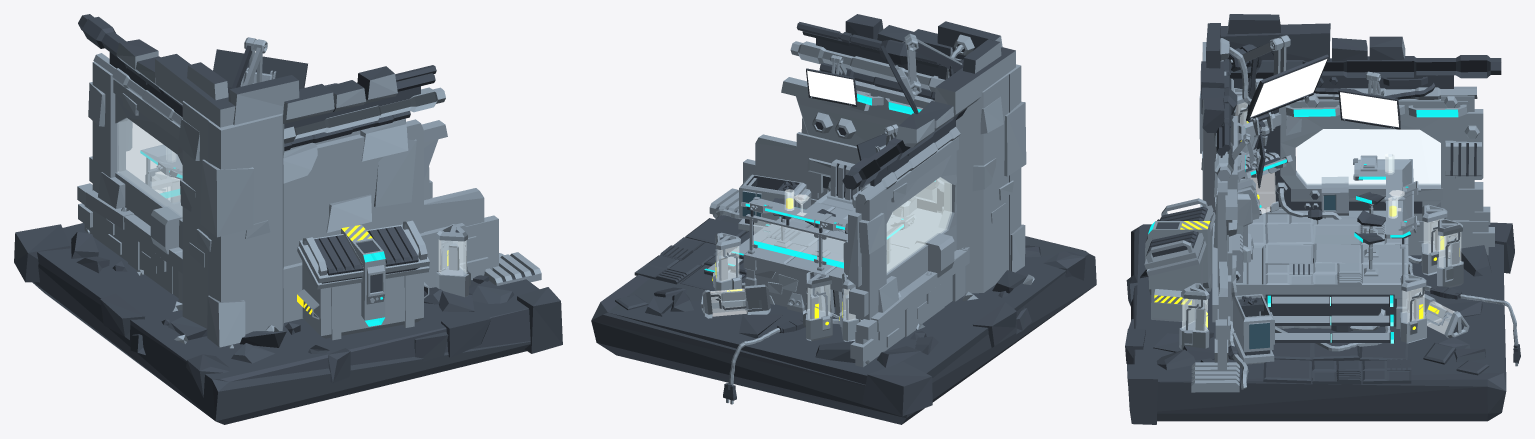
The model's file is cyberpunk_bar.glb.
3 renders of one model, left to right at view 1: azimuth 30°, elevation 25°; view 2: azimuth 150°, elevation 25°; view 3: azimuth 270°, elevation 25°, orthographic. The views are drawn at different scales.
Visible parts, largest first — view 1: Object_5, Object_10, Object_8, Object_6, Object_12; view 2: Object_10, Object_5, Object_8, Object_6, Object_12, Object_14, Object_11, Object_7, Object_9; view 3: Object_10, Object_5, Object_8, Object_6, Object_12, Object_11, Object_7, Object_9, Object_14, Object_4, Object_3.
Part boxes in pixels (x1,y1,x2,y2): Object_5: [77, 43, 498, 348]; Object_10: [14, 14, 562, 424]; Object_8: [115, 37, 470, 297]; Object_6: [93, 53, 541, 285]; Object_12: [117, 118, 466, 275]; Object_10: [591, 14, 1096, 424]; Object_5: [708, 36, 1034, 404]; Object_8: [700, 33, 956, 318]; Object_6: [709, 34, 974, 312]; Object_12: [710, 177, 951, 320]; Object_14: [704, 94, 935, 272]; Object_11: [807, 70, 855, 104]; Object_7: [713, 44, 963, 385]; Object_9: [745, 175, 835, 225]; Object_10: [1125, 14, 1520, 424]; Object_5: [1144, 15, 1518, 369]; Object_8: [1179, 35, 1469, 349]; Object_6: [1191, 38, 1479, 392]; Object_12: [1182, 102, 1461, 334]; Object_11: [1250, 59, 1398, 127]; Object_7: [1228, 47, 1518, 389]; Object_9: [1238, 191, 1385, 355]; Object_14: [1148, 109, 1458, 339]; Object_4: [1249, 192, 1335, 349]; Object_3: [1154, 121, 1443, 329].
Size of the model in its own units: 1.44 by 1.19 by 1.44.
